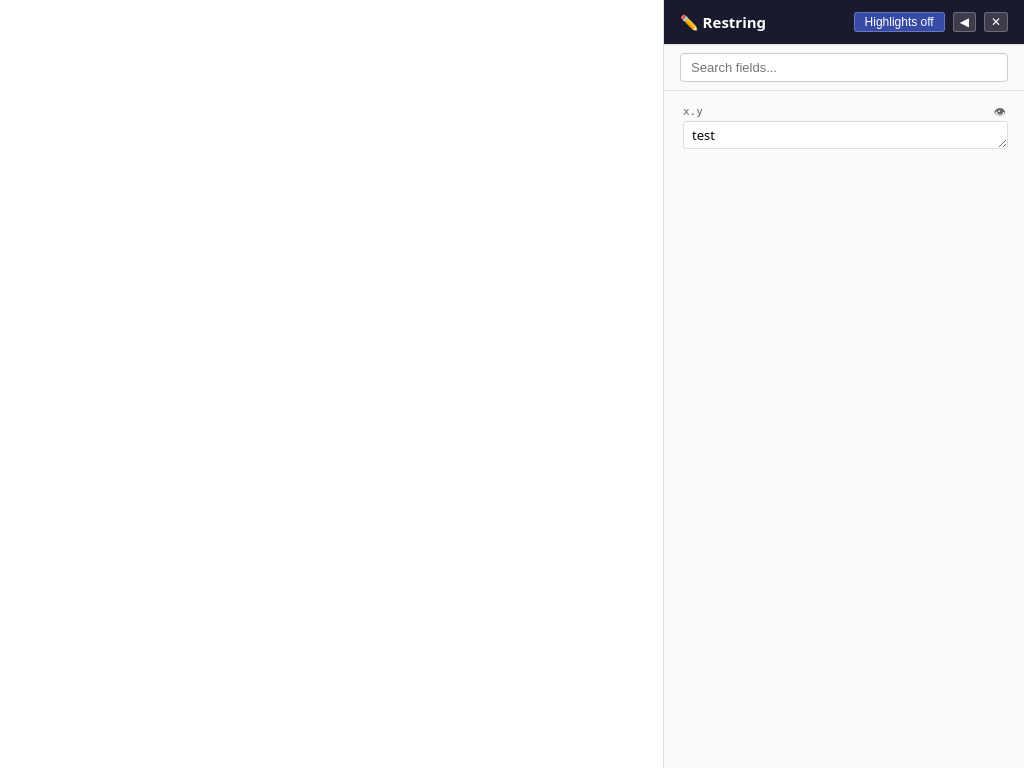
RestringSidebar › flips sidebar position
Click the button named "Move sidebar to left". click: [964, 22]
box: left=953, top=12, right=976, bottom=32
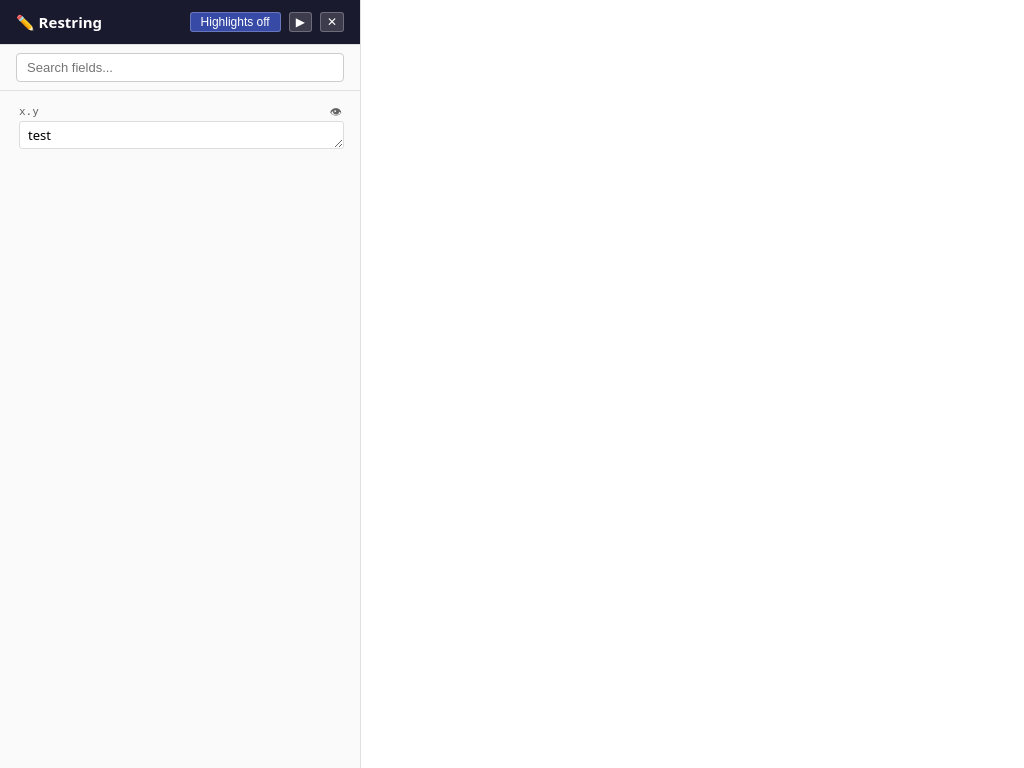
Check: the button named "Move sidebar to right" is shown, box left=289, top=12, right=312, bottom=32
